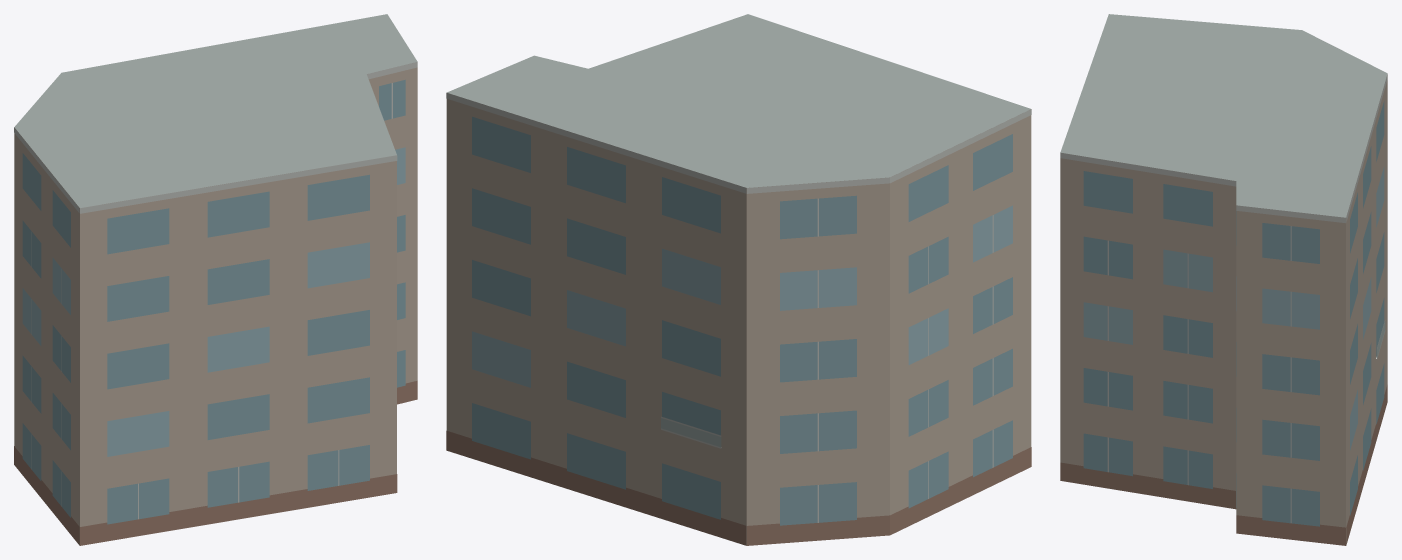
The model's file is survey-upis-33030034.glb.
The picture shows the model from 3 angles, left to right: view 1: azimuth 30°, elevation 25°; view 2: azimuth 150°, elevation 25°; view 3: azimuth 270°, elevation 25°; orthographic projection. The views are drawn at different scales.
Visible parts, largest first — view 1: survey-upis-33030034.tmp; view 2: survey-upis-33030034.tmp; view 3: survey-upis-33030034.tmp.
Part boxes in pixels (x1,y1,x2,y2): survey-upis-33030034.tmp: (14,14,417,545); survey-upis-33030034.tmp: (446,14,1031,545); survey-upis-33030034.tmp: (1060,14,1387,545).
Size of the model in its own units: 19.45 by 14.6 by 13.21.
